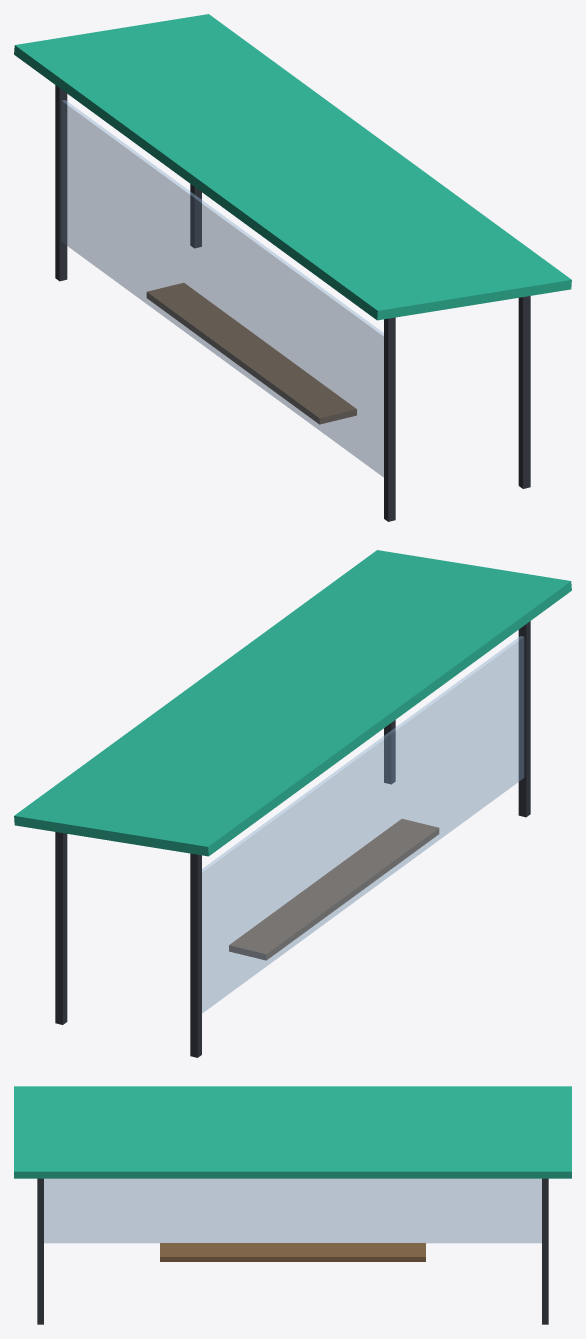
File: rain_shelter.glb
3 renders of one model, top to bottom at view 1: azimuth 30°, elevation 25°; view 2: azimuth 150°, elevation 25°; view 3: azimuth 270°, elevation 25°, orthographic. The views are drawn at different scales.
Visible parts, largest first — view 1: shelter; view 2: shelter; view 3: shelter.
Part boxes in pixels (x1,y1,x2,y2): shelter: [14, 14, 571, 521]; shelter: [14, 550, 571, 1057]; shelter: [14, 1086, 571, 1324].
Bounding box in the file's own units: 2.6 × 2.91 × 8.4.
